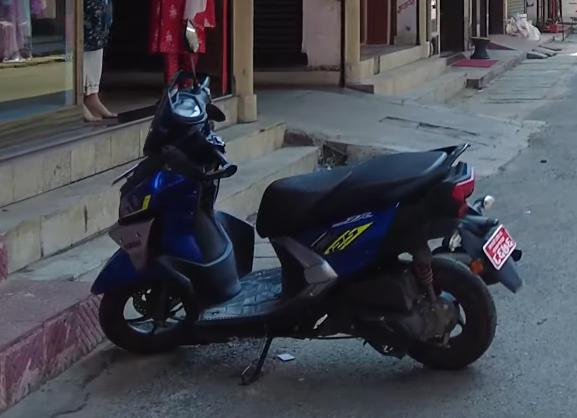scooter: (86, 66, 535, 379)
